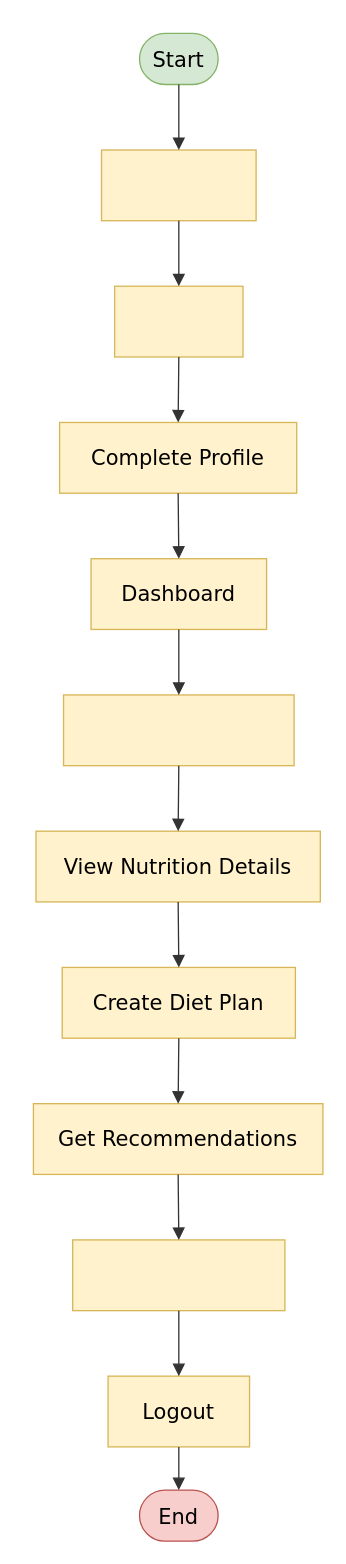
Some shapes in this 346 by 1564 pixel diagram are drawn without their labels. The box of each missing label's shape, as (x1, y1, x2, y2) in pixels:
Add Food Intake: (62, 694, 294, 766)
Login: (113, 285, 243, 357)
Register: (100, 149, 256, 221)
Track Progress: (71, 1239, 285, 1311)
